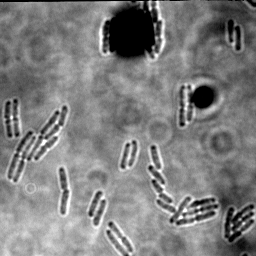Dividing: (106, 221, 134, 254), (58, 166, 71, 216), (10, 97, 22, 139), (177, 84, 187, 129), (100, 19, 111, 56), (185, 84, 195, 124), (3, 100, 13, 139)
Microcolony: (147, 144, 220, 228), (7, 104, 69, 184), (223, 202, 256, 244)
Rod: (105, 230, 130, 255), (87, 190, 103, 218), (92, 198, 107, 227), (126, 140, 139, 168), (119, 142, 131, 171), (225, 17, 235, 44), (233, 25, 242, 52)
